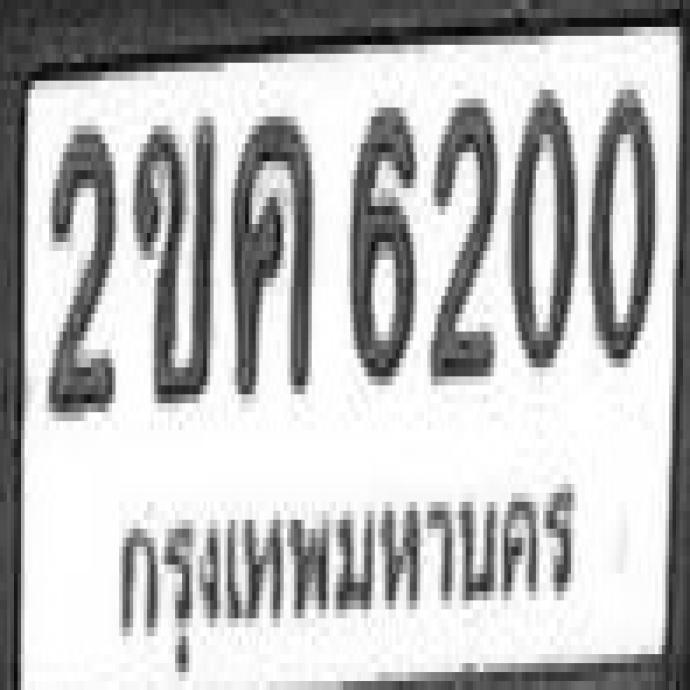0: (508, 81, 571, 360), (587, 81, 650, 358)
2: (45, 116, 112, 409), (427, 90, 493, 375)
6: (346, 99, 412, 377)
A02: (130, 113, 211, 397)
A04: (229, 107, 309, 390)
BKK: (104, 465, 587, 668)
